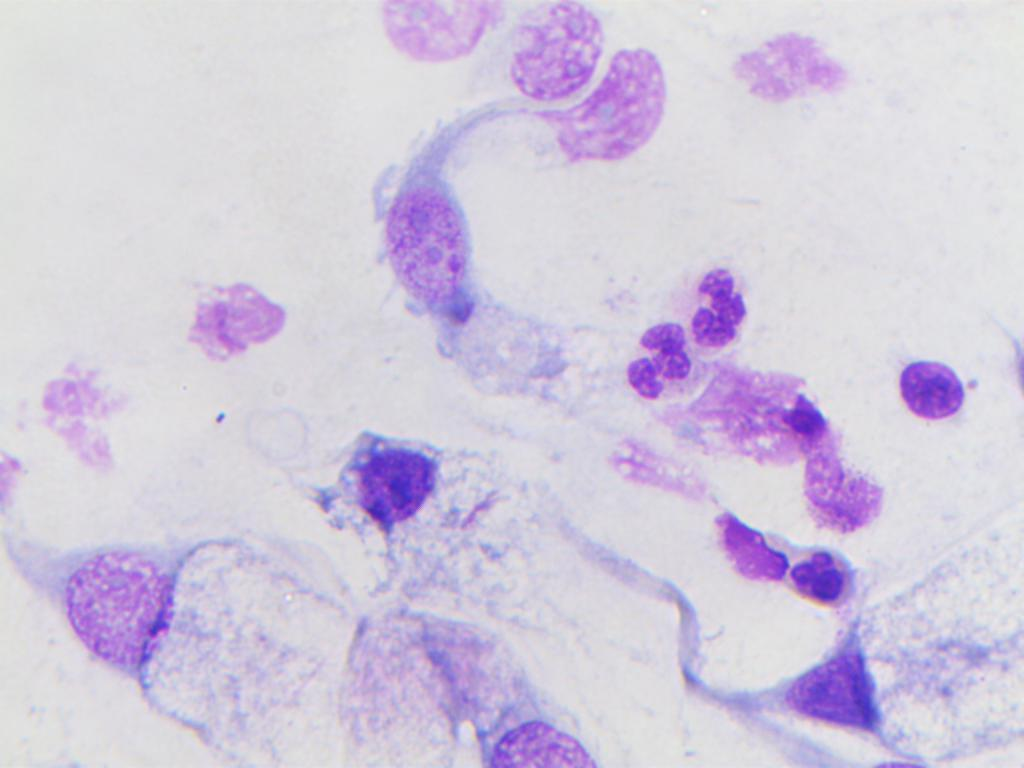artifact: (770, 378, 884, 541), (170, 277, 289, 369), (701, 509, 789, 587)
ciliated: (368, 131, 594, 414)
epithelial: (551, 40, 679, 163), (498, 4, 611, 107), (377, 0, 516, 67), (892, 343, 963, 446)
goblet_cell: (12, 519, 328, 759), (786, 590, 1024, 754), (473, 642, 596, 768)
lymphocyte: (305, 420, 469, 549)
neutrophil: (723, 27, 853, 114), (617, 312, 708, 402), (674, 264, 757, 352), (780, 536, 859, 608)
